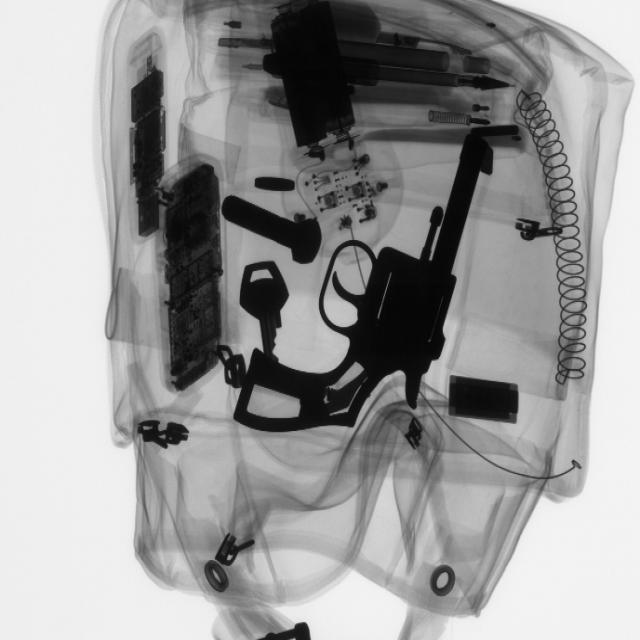GUN: (227, 125, 504, 434)
